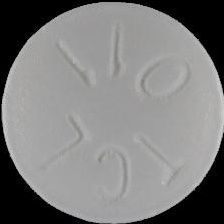76237-112: (0, 0, 224, 224)
